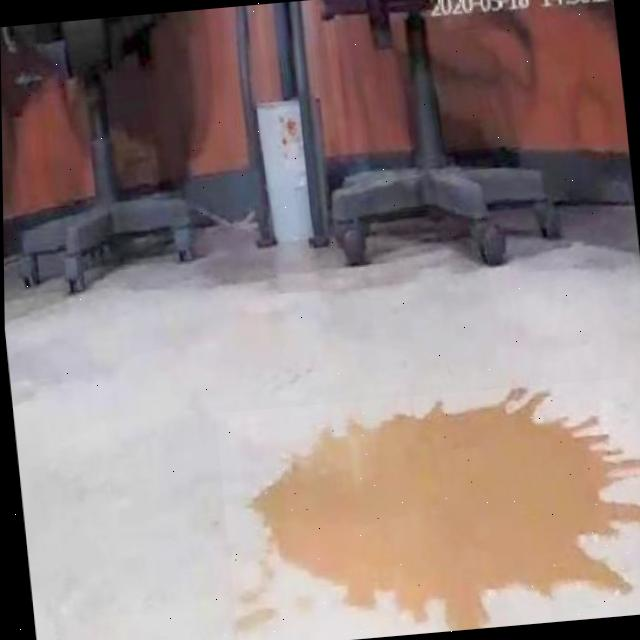spillage: (238, 387, 640, 640)
